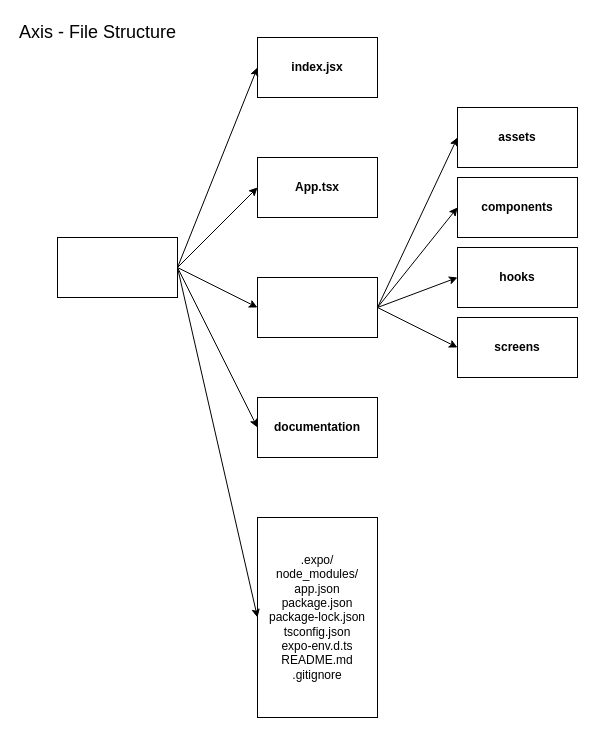
Some shapes in this 595 by 735 pixel diagram are drawn without their labels. Here are the shapes that lost their labels. From the top down, the box of each, then its label:
(56, 236, 178, 298): Axis (Root Directory)
(256, 276, 378, 338): code
